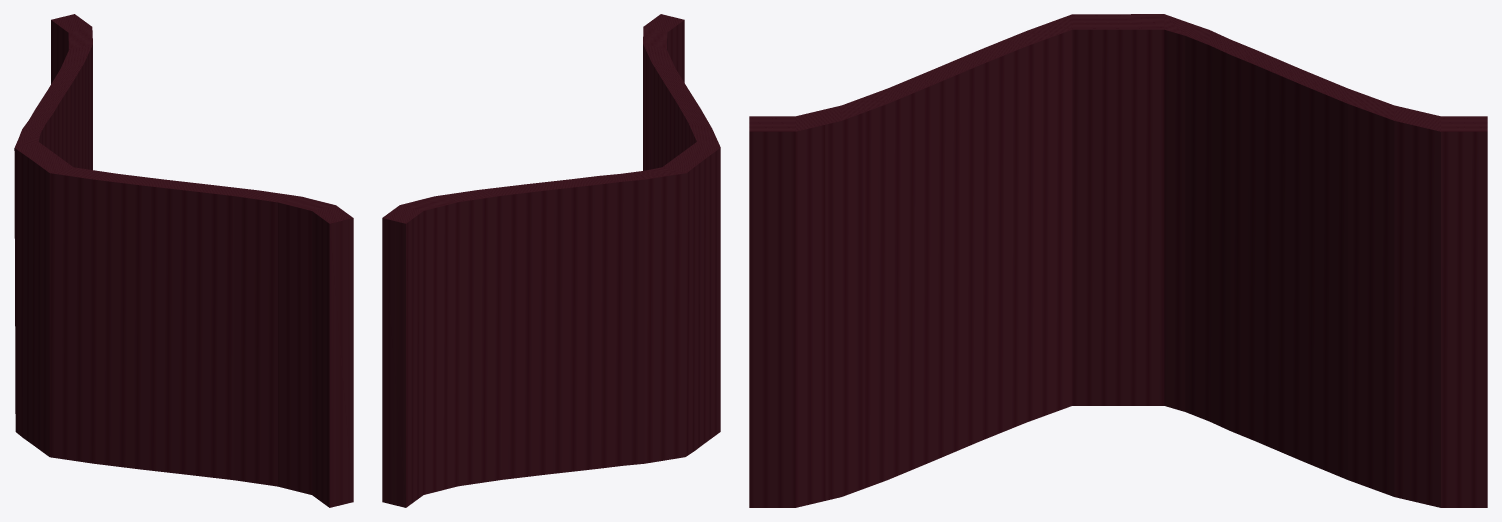
File: CurvedWall.fbx
3 renders of one model, left to right at view 1: azimuth 30°, elevation 25°; view 2: azimuth 150°, elevation 25°; view 3: azimuth 270°, elevation 25°, orthographic. The views are drawn at different scales.
Parts seen in each view (by area): view 1: Cube; view 2: Cube; view 3: Cube.
Boxes of the visible parts, <box> form: Cube: <box>14,14,353,507</box>; Cube: <box>382,14,720,507</box>; Cube: <box>749,14,1487,507</box>.
Size of the model in its own units: 523 by 778 by 1383.
